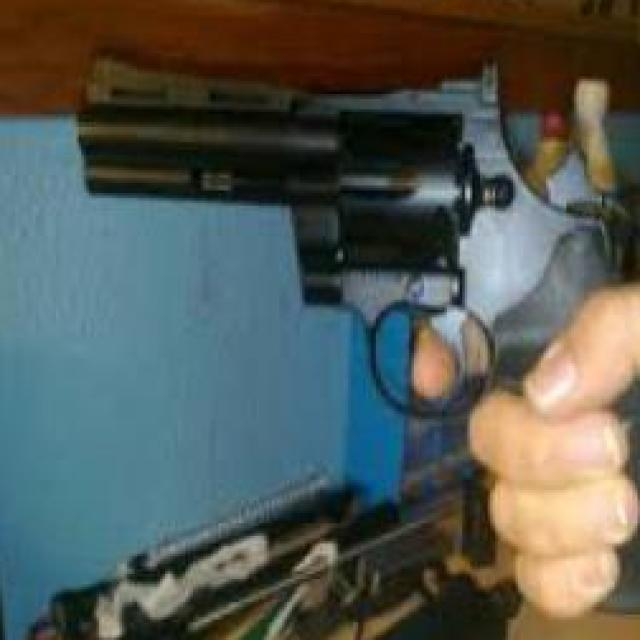pistol: (73, 38, 640, 629)
